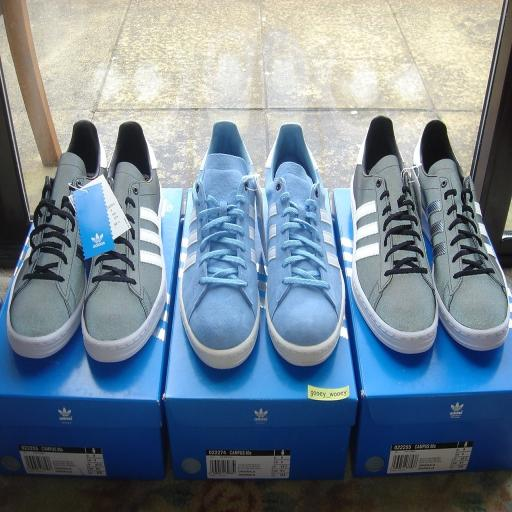shoe: (7, 120, 107, 359), (414, 120, 510, 351), (81, 121, 167, 362), (351, 116, 438, 353), (178, 121, 260, 369), (266, 123, 344, 366)
